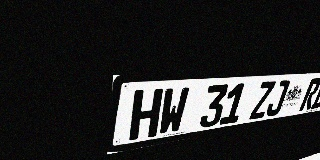1: (219, 83, 248, 125)
3: (199, 84, 229, 129)
D: (310, 77, 320, 109)
H: (129, 89, 164, 141)
J: (264, 80, 291, 117)
R: (299, 78, 320, 111)
W: (157, 87, 190, 136)
Z: (249, 81, 276, 120)
